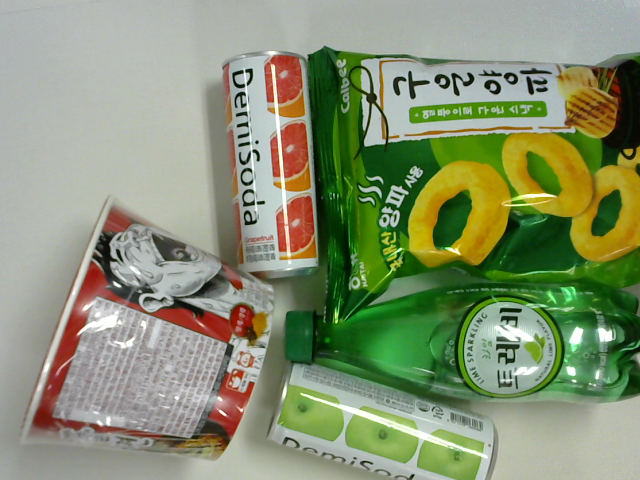Demisoda_Apple_Can_250ml: (276, 360, 510, 480)
Demisoda_Grapefruit_Can_250ml: (216, 34, 330, 294)
Grilled_Onions: (302, 50, 640, 305)
Hejangpul: (24, 205, 274, 460)
Treviraim_500ml: (274, 280, 640, 409)
